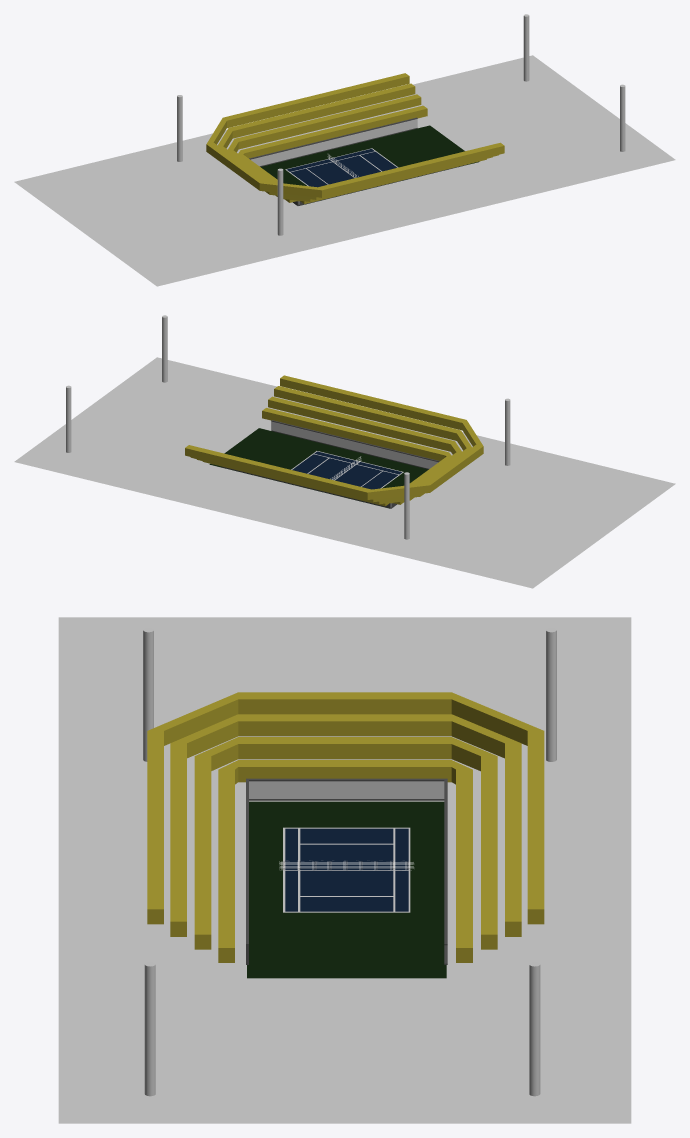
Rendered from tennis stadium.obj.
3 views of the same model, one above another, from view 1: azimuth 30°, elevation 25°; view 2: azimuth 150°, elevation 25°; view 3: azimuth 270°, elevation 25° (orthographic). The views are drawn at different scales.
Visible parts, largest first — view 1: Plane.001, Cube.008, Cube.010, Cube.006, Cube.005, Plane.002, Cube.002, Cylinder.003, Cylinder; view 2: Plane.001, Cube.008, Cube.010, Cube.006, Cube.005, Plane.002, Cube.002; view 3: Plane.001, Cube.008, Cube.010, Cube.006, Plane.002, Cube.005, Cube.002, Cylinder.002, Cylinder.003, Cylinder.001, Cylinder, Cube.
Part boxes in pixels (left/top/right/bottom): Plane.001: left=14, top=55, right=675, bottom=286; Cube.008: left=206, top=73, right=504, bottom=197; Cube.010: left=218, top=83, right=498, bottom=199; Cube.006: left=228, top=94, right=492, bottom=201; Cube.005: left=238, top=105, right=486, bottom=204; Plane.002: left=285, top=148, right=398, bottom=187; Cube.002: left=249, top=117, right=466, bottom=205; Cylinder.003: left=523, top=14, right=529, bottom=81; Cylinder: left=277, top=168, right=283, bottom=235; Plane.001: left=14, top=357, right=675, bottom=588; Cube.008: left=185, top=375, right=483, bottom=499; Cube.010: left=190, top=386, right=471, bottom=502; Cube.006: left=197, top=396, right=461, bottom=504; Cube.005: left=202, top=408, right=451, bottom=506; Plane.002: left=291, top=451, right=403, bottom=489; Cube.002: left=222, top=420, right=439, bottom=508; Plane.001: left=58, top=617, right=631, bottom=1123; Cube.008: left=147, top=692, right=544, bottom=924; Cube.010: left=170, top=714, right=521, bottom=936; Cube.006: left=194, top=737, right=497, bottom=949; Plane.002: left=283, top=827, right=410, bottom=912; Cube.005: left=218, top=760, right=472, bottom=962; Cube.002: left=246, top=778, right=447, bottom=964; Cylinder.002: left=144, top=962, right=155, bottom=1096; Cylinder.003: left=529, top=962, right=540, bottom=1096; Cylinder.001: left=546, top=627, right=556, bottom=761; Cylinder: left=143, top=627, right=153, bottom=761; Cube: left=279, top=861, right=413, bottom=870.
Size of the model in its own units: 218 by 26.21 by 104.
